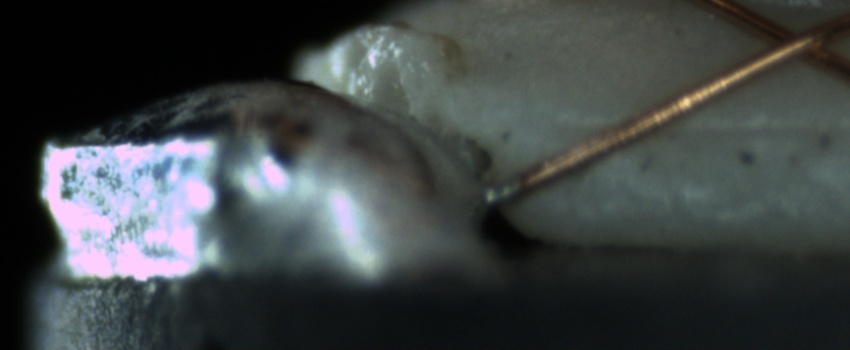CL: (738, 9, 841, 76)
DL: (560, 98, 847, 158)
TS: (481, 175, 522, 208)
